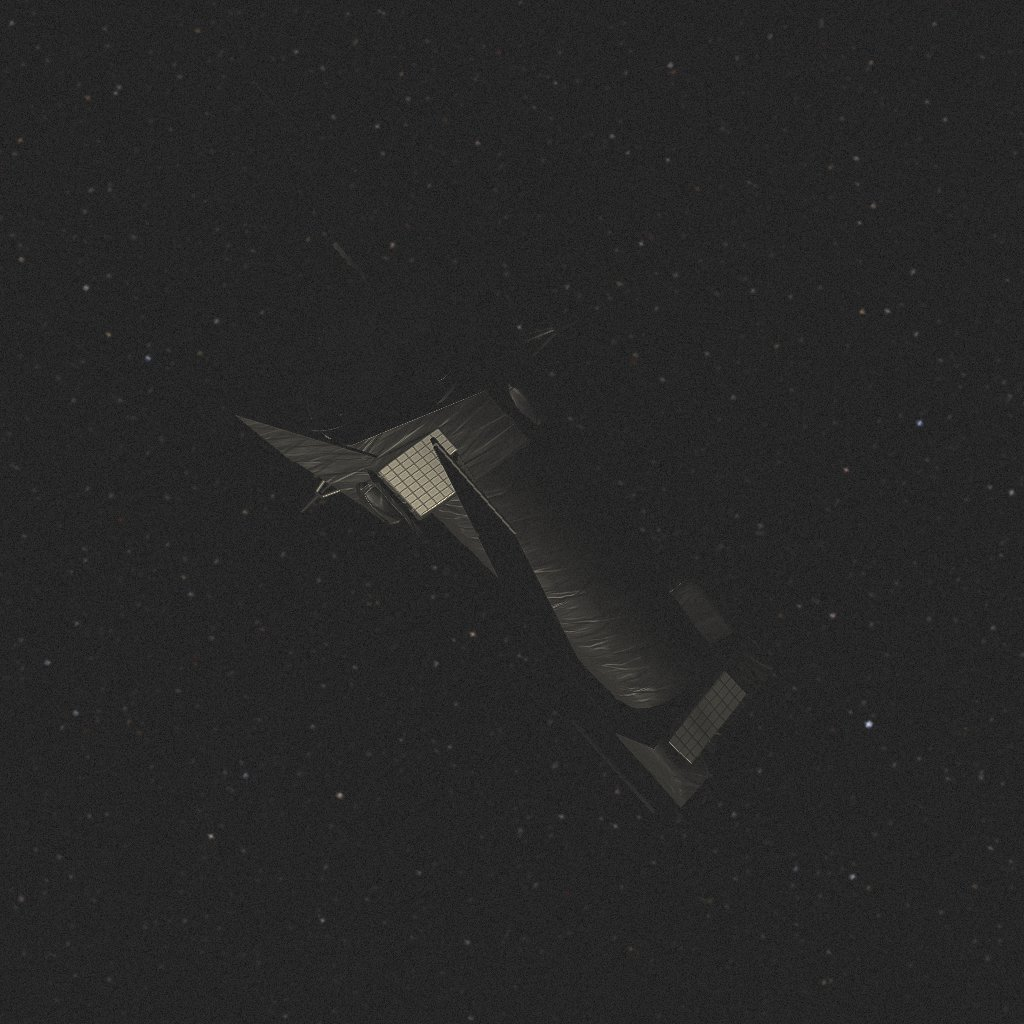xmm_newton: (201, 10, 775, 813)
